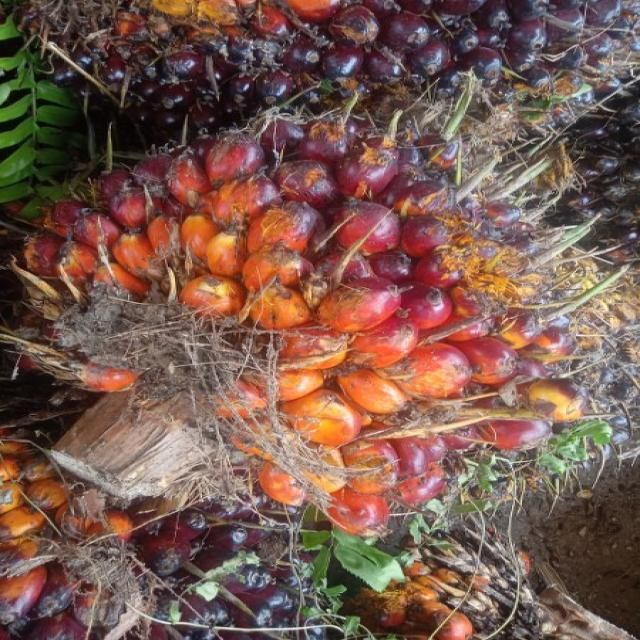fraksi 3: (11, 88, 624, 568)
